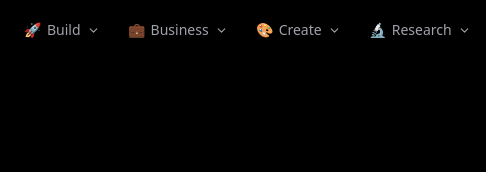
Test: CategoryMenu › sets aria-expanded on menu buttons
The image size is (486, 172).
Click the button "🚀 Build": point(62, 30) [12,12,112,48]
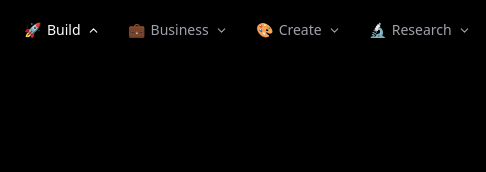
Now the button "🚀 Build" is expanded, box [12,12,112,48]
